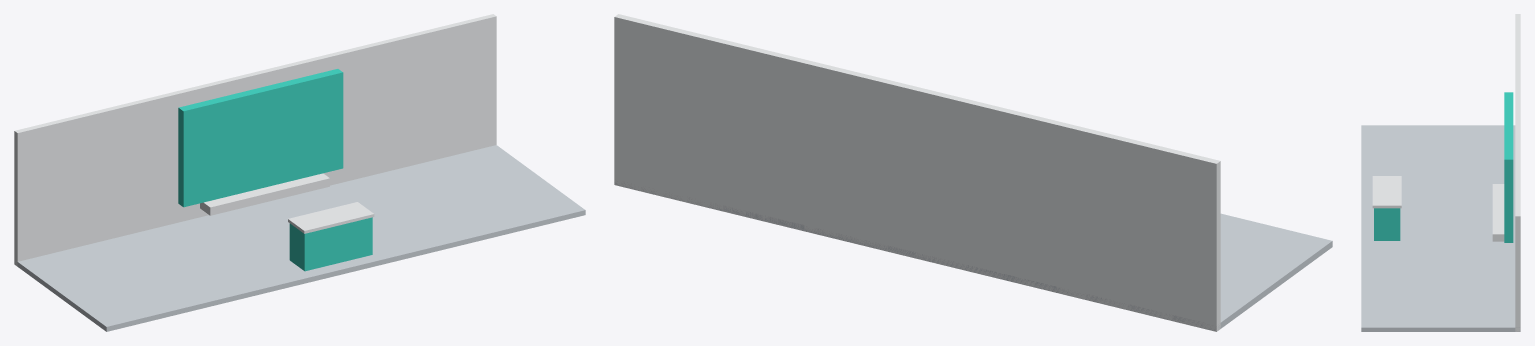
3 renders of one model, left to right at view 1: azimuth 30°, elevation 25°; view 2: azimuth 150°, elevation 25°; view 3: azimuth 270°, elevation 25°, orthographic. The views are drawn at different scales.
Parts seen in each view (by area): view 1: Exhibition Booth Concept; view 2: Exhibition Booth Concept; view 3: Exhibition Booth Concept.
Part boxes in pixels (x1,y1,x2,y2): Exhibition Booth Concept: [14, 14, 585, 331]; Exhibition Booth Concept: [614, 14, 1332, 331]; Exhibition Booth Concept: [1361, 14, 1520, 331].
Size of the model in its own units: 12 by 3.2 by 4.
